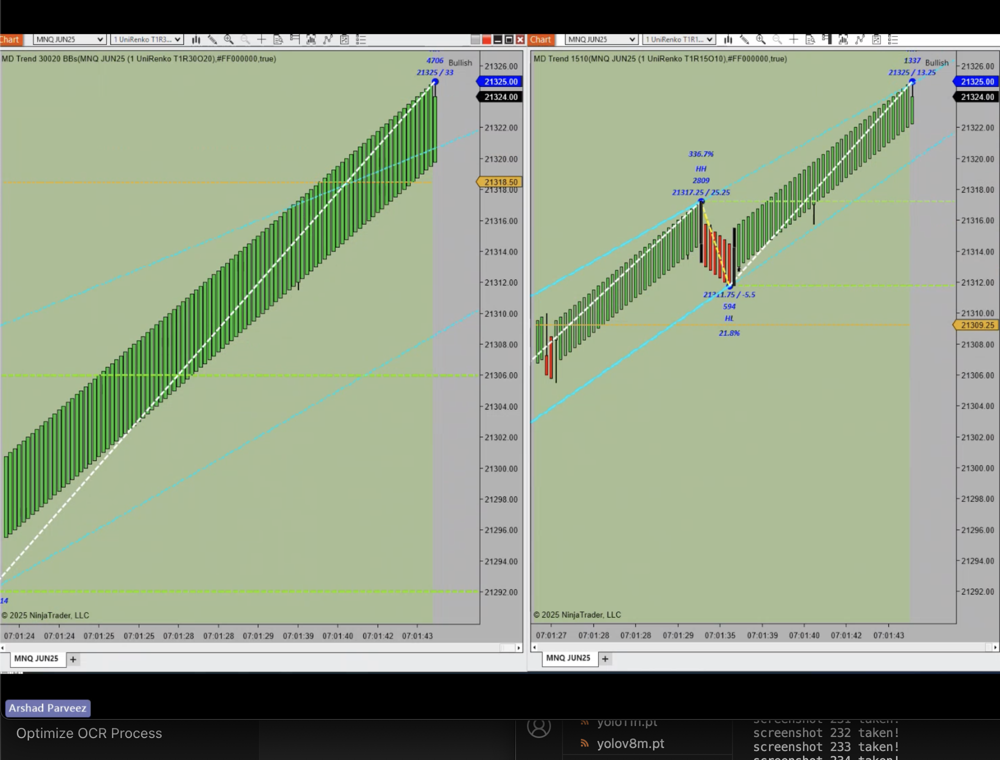HH: (689, 163, 716, 177)
HL: (719, 311, 742, 329)
